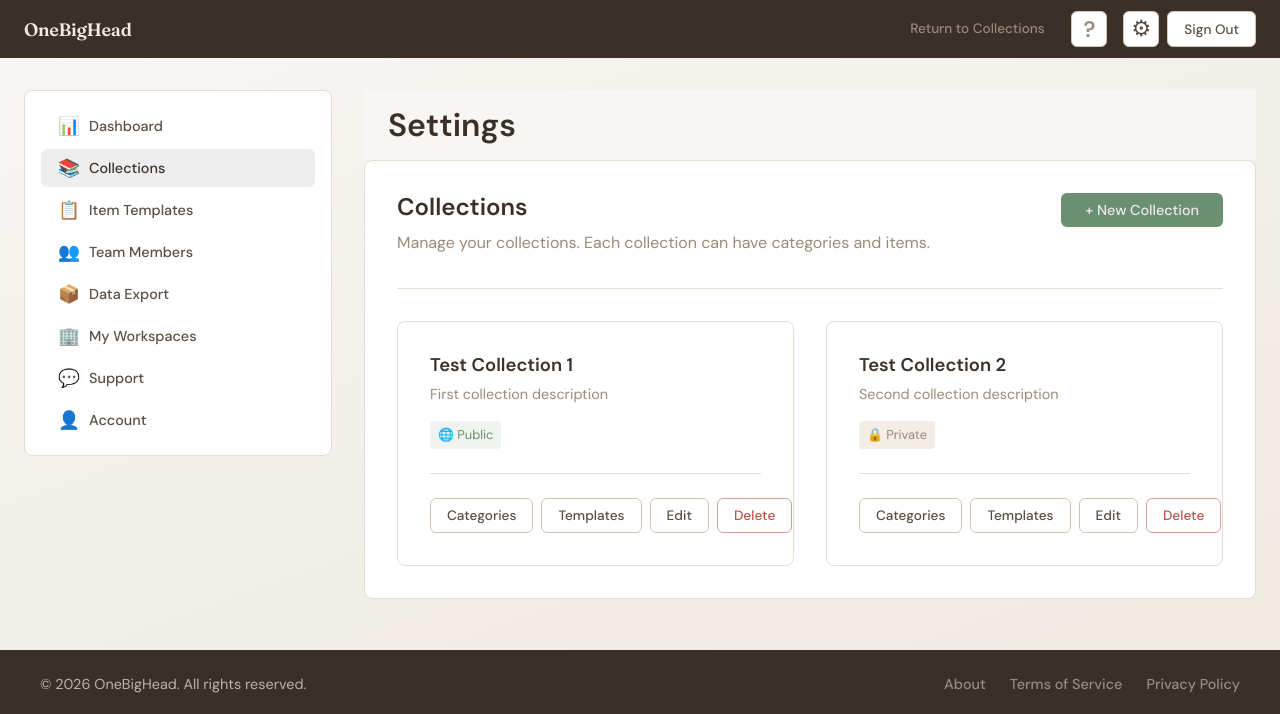
Test: SettingsView › collections section - edit mode › should enter edit mode when Edit clicked
The image size is (1280, 714).
Step 1. Click the button "Edit" below "🌐 Public" → point(679, 515), box [650, 498, 709, 533]
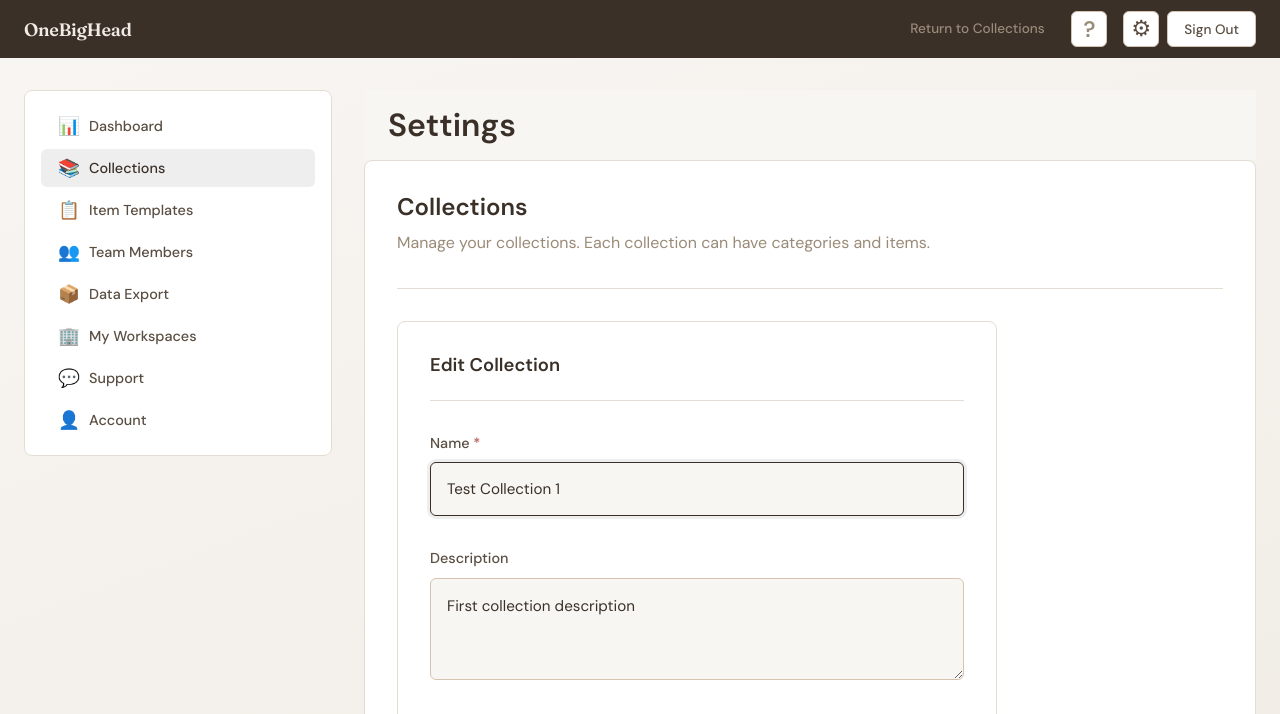
expect the heading "Edit Collection" is shown: met, box [430, 354, 964, 401]
expect the field showing "Test Collection 1" is shown: met, box [430, 462, 964, 516]
